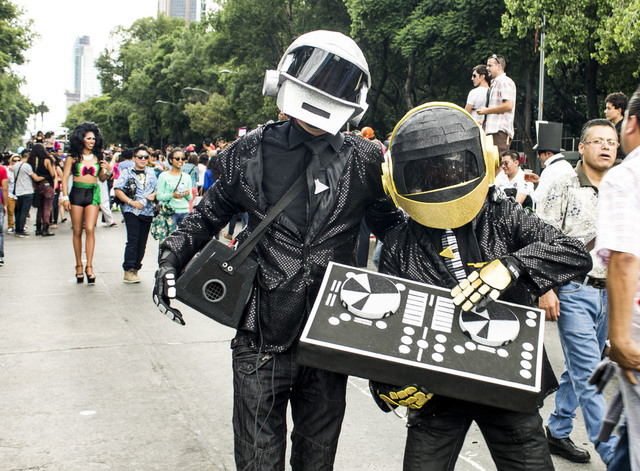helmet: (392, 111, 494, 219), (277, 28, 375, 130)
